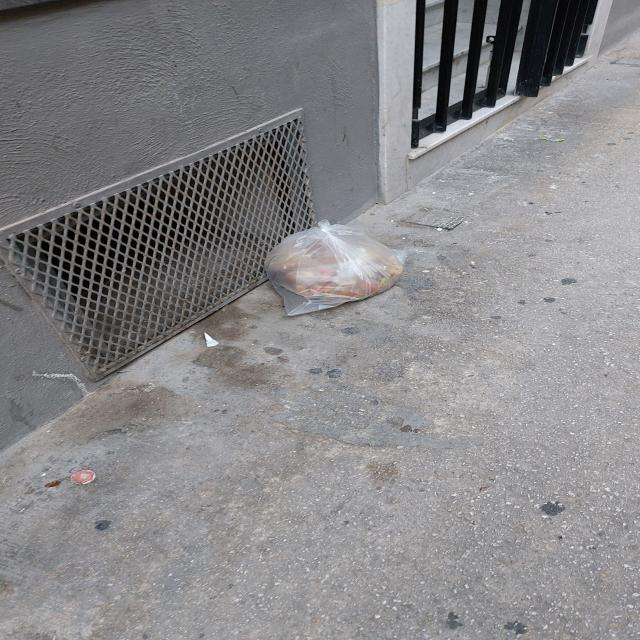Organic Waste -White Bag-: (264, 217, 415, 324)
